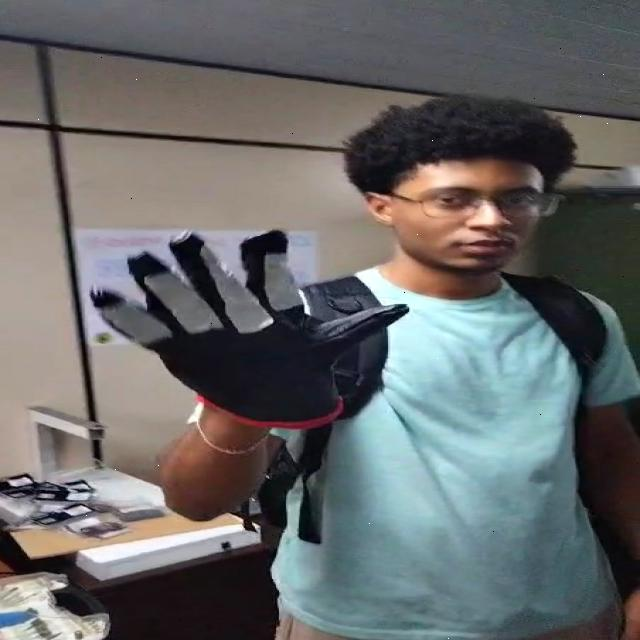Gloves: (94, 231, 402, 421)
